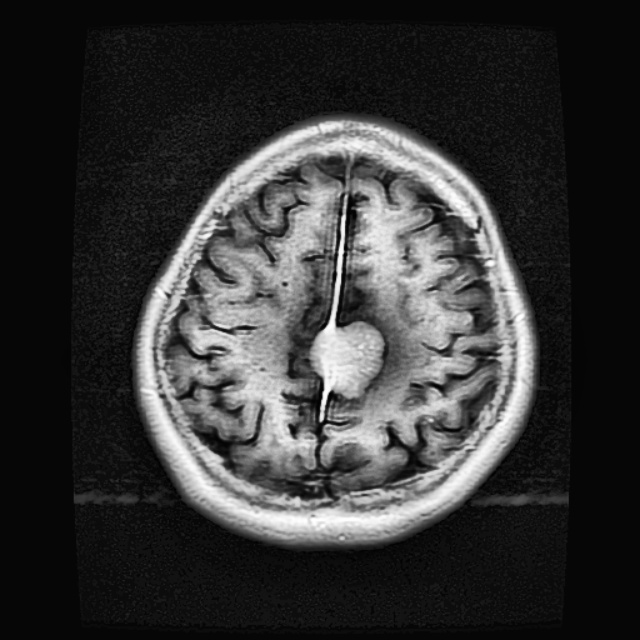Pituitary: (310, 320, 382, 397)
